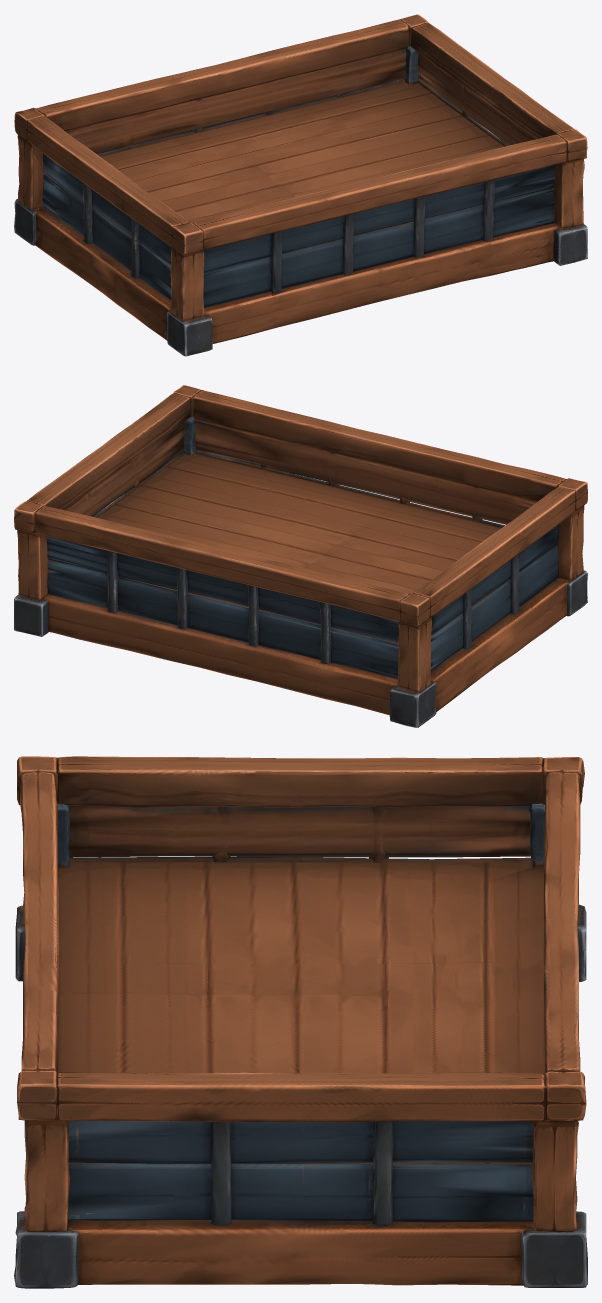
File: Timber_Cargo_Crate.fbx
3 renders of one model, top to bottom at view 1: azimuth 30°, elevation 25°; view 2: azimuth 150°, elevation 25°; view 3: azimuth 270°, elevation 25°, orthographic. The views are drawn at different scales.
Parts seen in each view (by area): view 1: mesh_node; view 2: mesh_node; view 3: mesh_node.
Part boxes in pixels (x1,y1,x2,y2): mesh_node: (14, 14, 587, 356); mesh_node: (14, 385, 587, 727); mesh_node: (14, 756, 587, 1288).
Size of the model in its own units: 100 by 29.3 by 74.02.
1 material, 1 textured.
